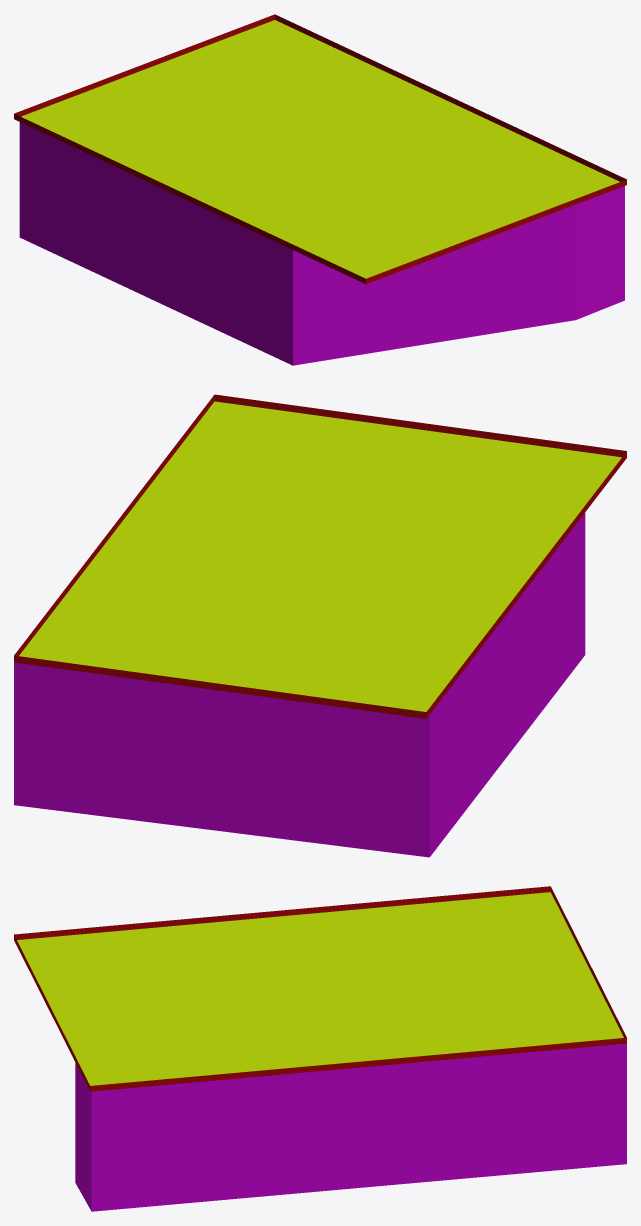
Rendered from sjs_62.glb.
3 renders of one model, top to bottom at view 1: azimuth 30°, elevation 25°; view 2: azimuth 150°, elevation 25°; view 3: azimuth 270°, elevation 25°, orthographic. The views are drawn at different scales.
Visible parts, largest first — view 1: sjs_62; view 2: sjs_62; view 3: sjs_62.
Boxes of the visible parts, left/top/right/bottom form: sjs_62: left=14, top=14, right=626, bottom=365; sjs_62: left=14, top=394, right=626, bottom=857; sjs_62: left=14, top=886, right=626, bottom=1211.
Bounding box in the file's own units: 25.62 × 7.56 × 33.23.
